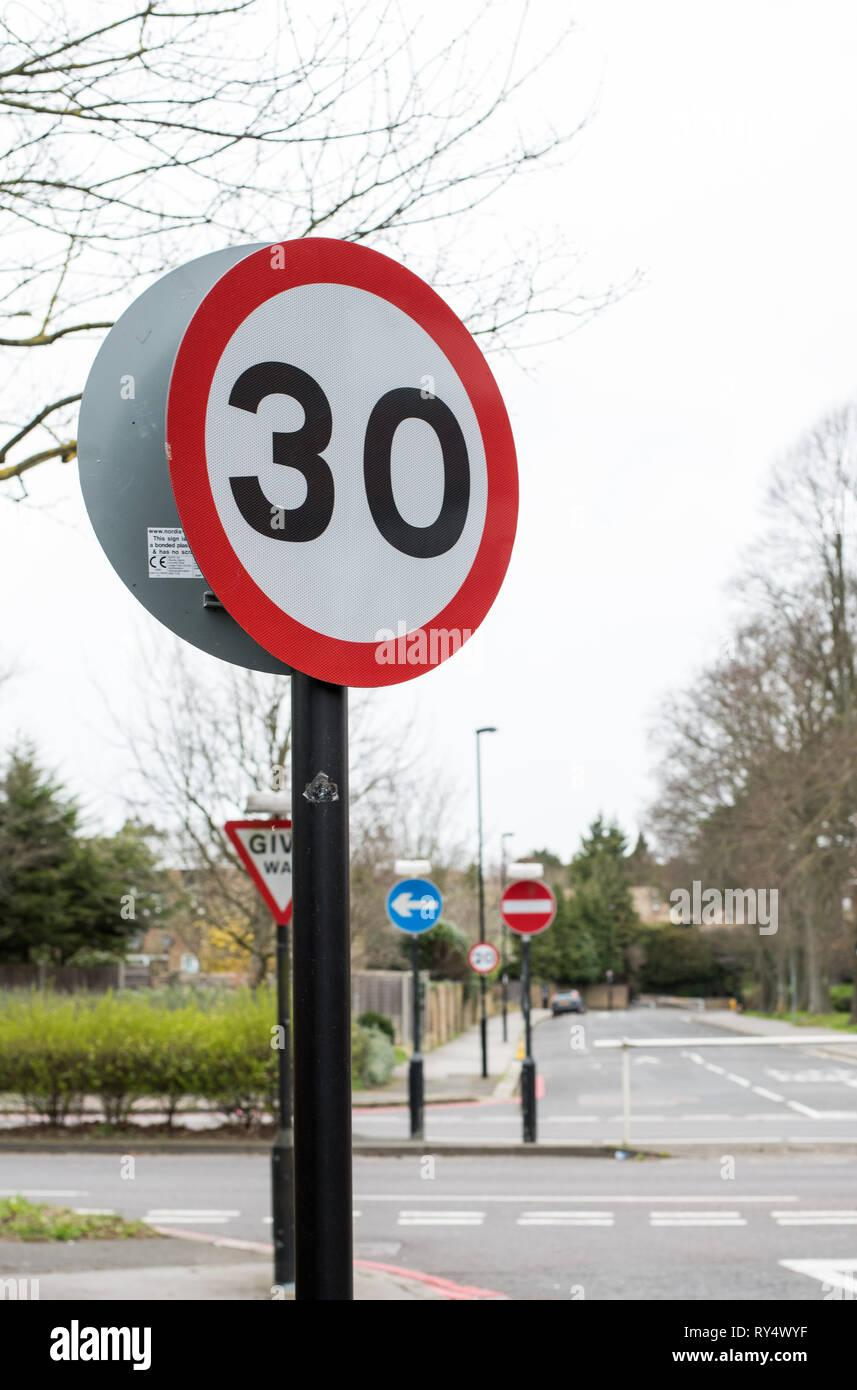speed-limit: (170, 238, 518, 690)
